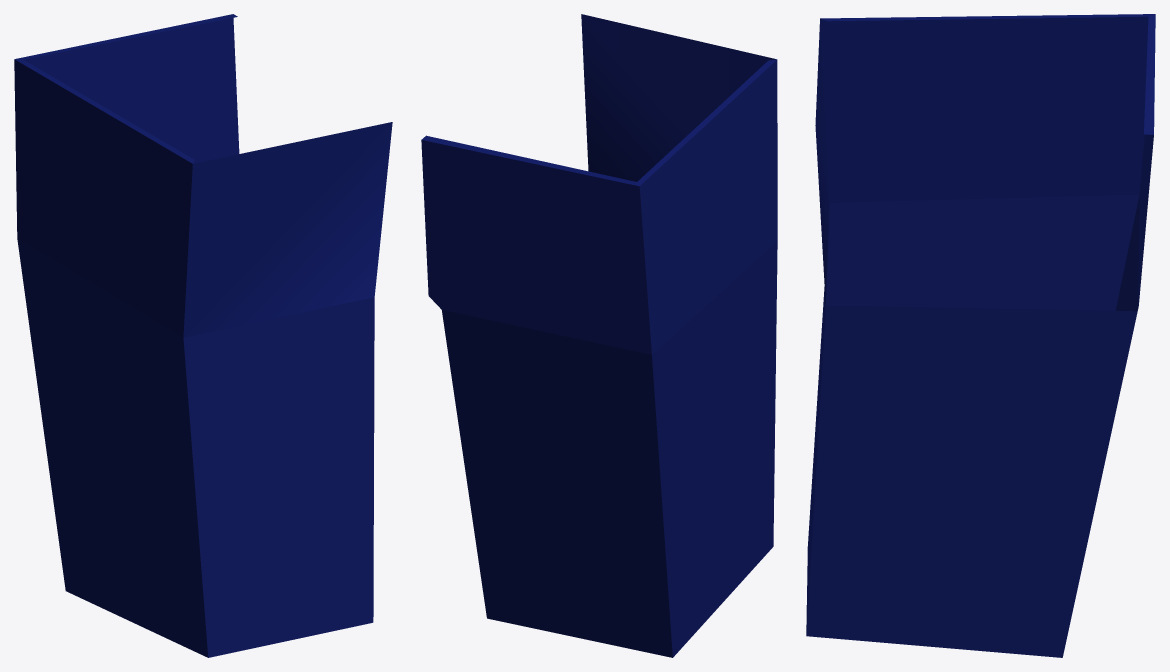
The model's file is muslo2.obj.
The picture shows the model from 3 angles, left to right: view 1: azimuth 30°, elevation 25°; view 2: azimuth 150°, elevation 25°; view 3: azimuth 270°, elevation 25°; orthographic projection. The views are drawn at different scales.
Parts seen in each view (by area): view 1: Cube.013; view 2: Cube.013; view 3: Cube.013.
Part boxes in pixels (x1,y1,x2,y2): Cube.013: [14, 14, 392, 657]; Cube.013: [421, 14, 777, 657]; Cube.013: [806, 14, 1155, 657].
Bounding box in the file's own units: 0.3129 × 0.6928 × 0.3997.
1 material, 1 textured.
